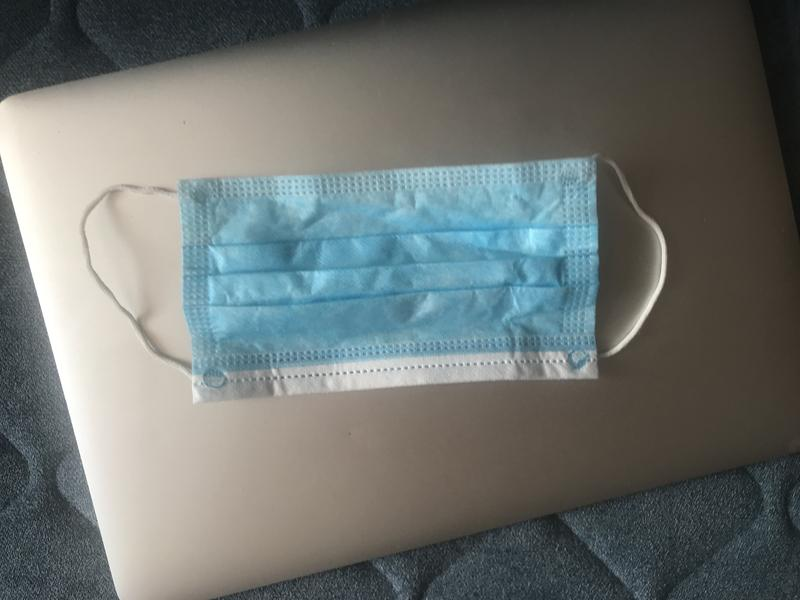medical_mask: (77, 153, 667, 401)
